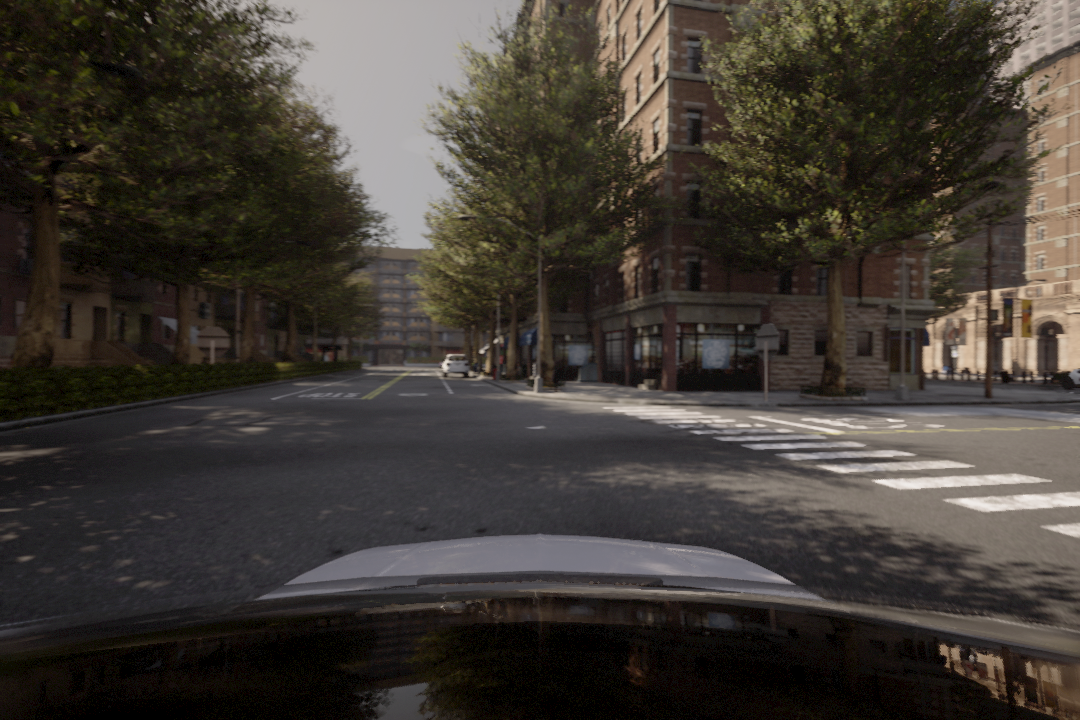walkside: (604, 401, 1080, 553)
